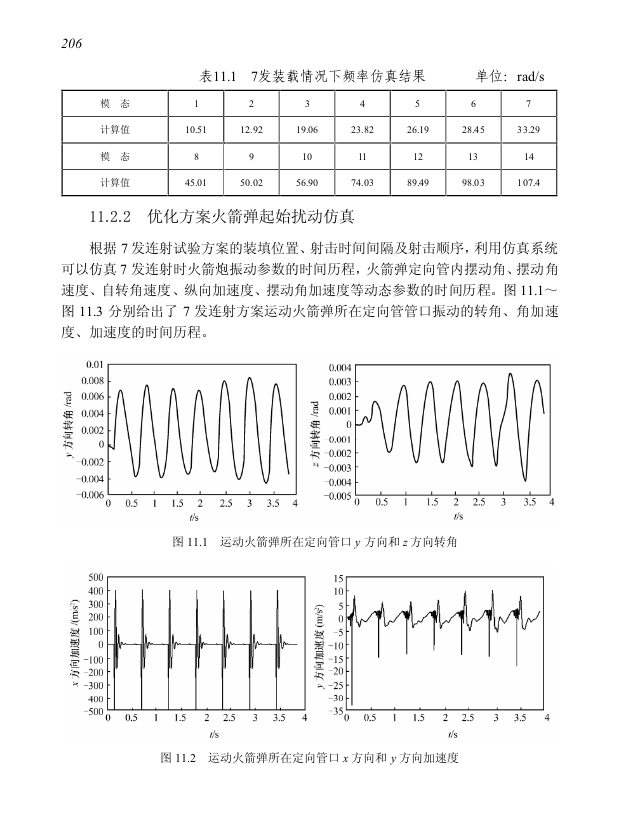table: (61, 89, 558, 197)
